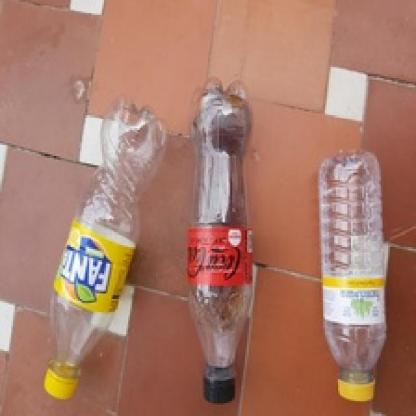Plastic Bottle: (43, 95, 167, 399), (186, 77, 254, 403), (317, 148, 387, 402)
